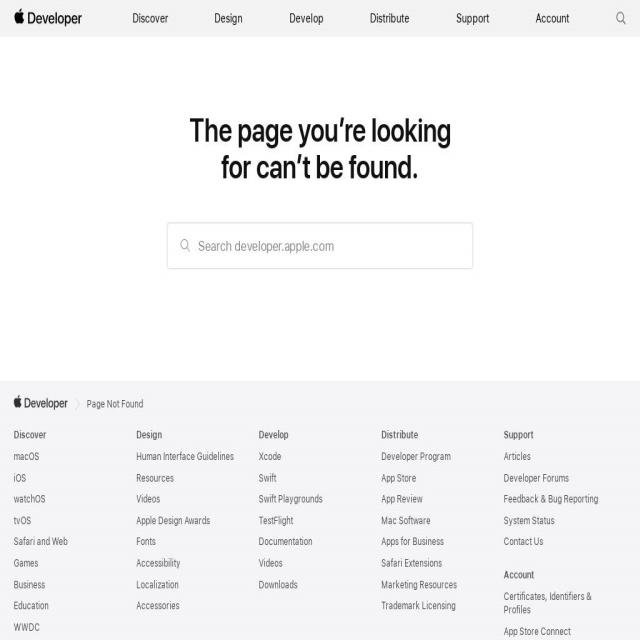navigation-links: (11, 411, 638, 640), (125, 3, 580, 30)
search: (158, 212, 484, 276), (606, 5, 634, 33)
